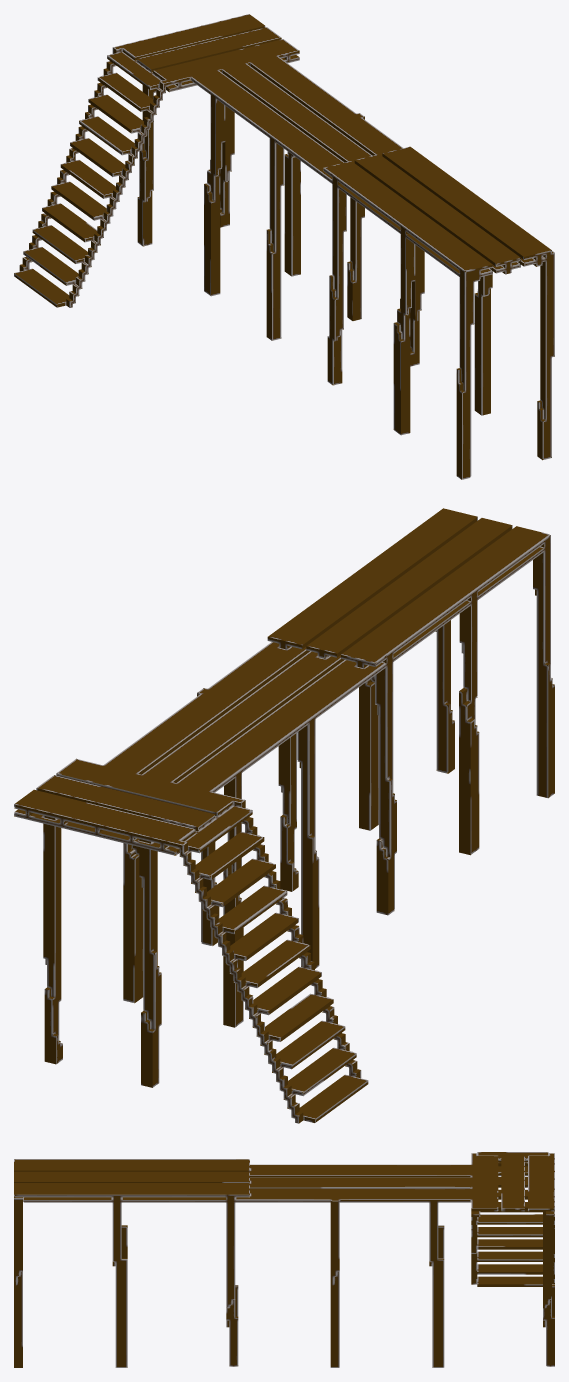
The model's file is Casa Buri - VersãoNanda-1.fbx.
3 views of the same model, one above another, from view 1: azimuth 30°, elevation 25°; view 2: azimuth 150°, elevation 25°; view 3: azimuth 270°, elevation 25° (orthographic). The views are drawn at different scales.
Parts seen in each view (by area): view 1: Casa Buri - VersãoNanda-1.001; view 2: Casa Buri - VersãoNanda-1.001; view 3: Casa Buri - VersãoNanda-1.001.
Boxes of the visible parts, <box> form: Casa Buri - VersãoNanda-1.001: <box>14,14,554,479</box>; Casa Buri - VersãoNanda-1.001: <box>14,508,554,1123</box>; Casa Buri - VersãoNanda-1.001: <box>14,1152,554,1367</box>.
Size of the model in its own units: 7.7 by 6.4 by 18.1.
Materials: 1 (1 with a texture image).
